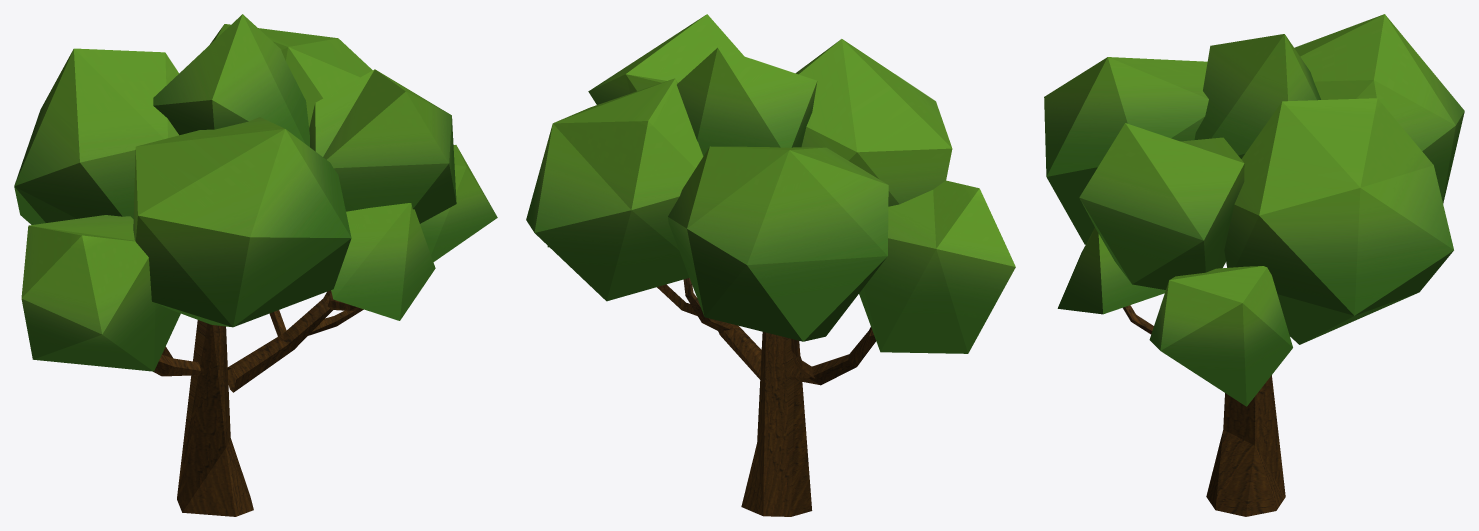
The model's file is Tree_M.fbx.
3 renders of one model, left to right at view 1: azimuth 30°, elevation 25°; view 2: azimuth 150°, elevation 25°; view 3: azimuth 270°, elevation 25°, orthographic. The views are drawn at different scales.
Visible parts, largest first — view 1: Tree.014; view 2: Tree.014; view 3: Tree.014.
Part boxes in pixels (x1=…): Tree.014: x1=14, y1=14, x2=497, y2=516; Tree.014: x1=526, y1=14, x2=1015, y2=516; Tree.014: x1=1044, y1=14, x2=1464, y2=516.
Size of the model in its own units: 798 by 777 by 607.
2 materials, 2 textured.
